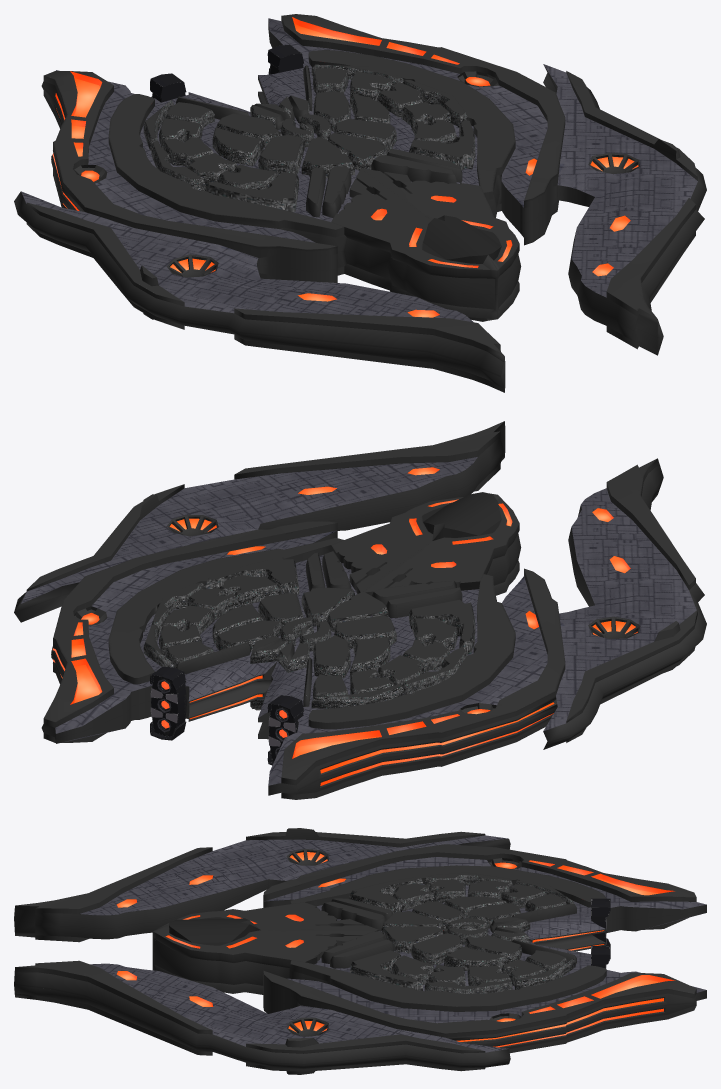
The picture shows the model from 3 angles, top to bottom: view 1: azimuth 30°, elevation 25°; view 2: azimuth 150°, elevation 25°; view 3: azimuth 270°, elevation 25°; orthographic projection. The views are drawn at different scales.
Parts seen in each view (by area): view 1: 1_ship_0, 2_Engine_0; view 2: 1_ship_0, 2_Engine_0; view 3: 1_ship_0, 2_Engine_0.
Boxes of the visible parts, x1,y1,x2,y2 form: 1_ship_0: (14,14,706,392); 2_Engine_0: (150,44,303,102); 1_ship_0: (14,421,706,799); 2_Engine_0: (150,666,303,765); 1_ship_0: (14,828,706,1074); 2_Engine_0: (591,898,610,969).
Bounding box in the file's own units: 1219 × 147 × 1579.
Materials: 2 (2 with a texture image).
